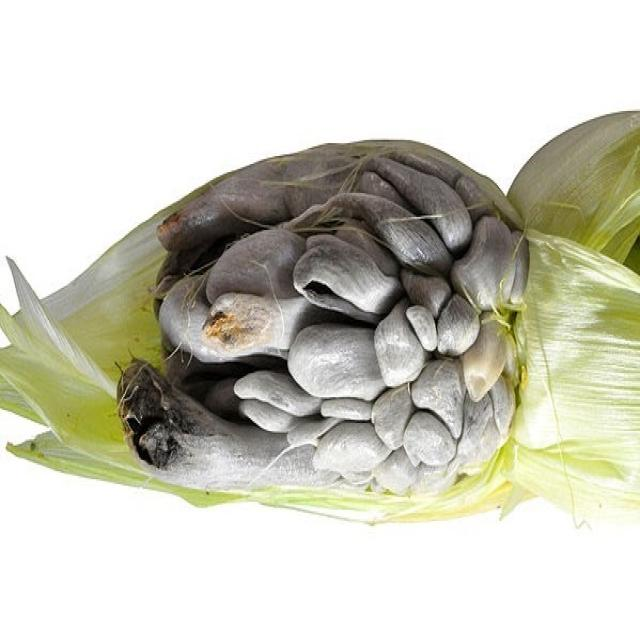Leaf_Scald: (98, 92, 544, 559)
